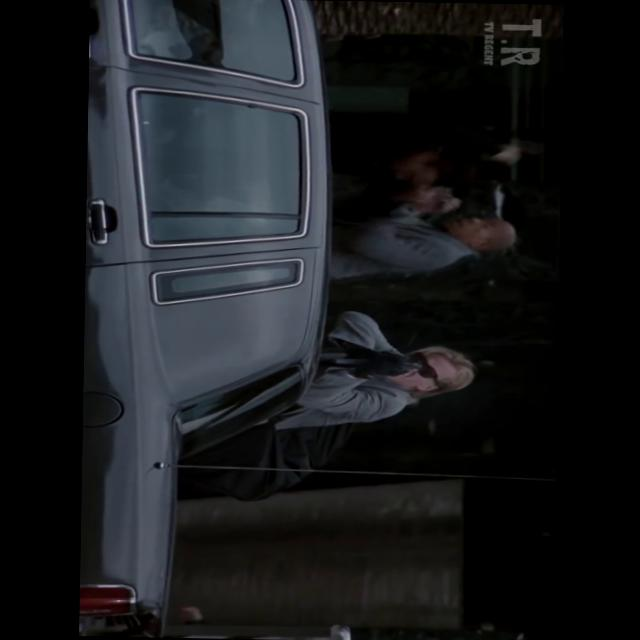long weapon: (317, 340, 432, 402)
